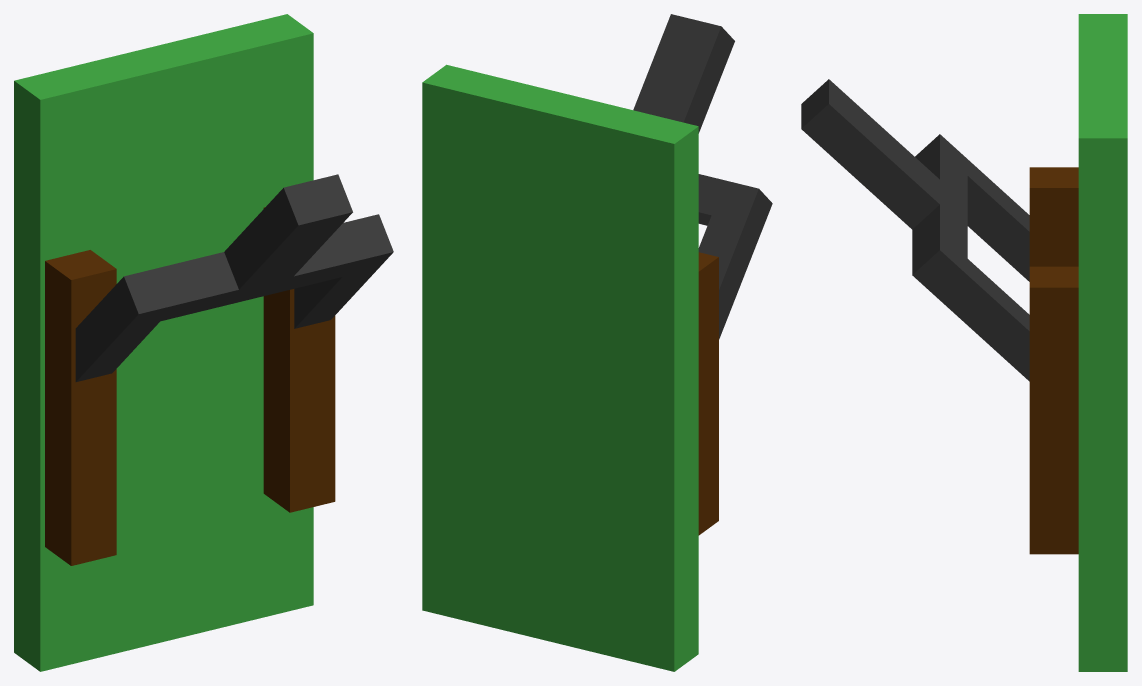
Rendered from INVISIBLE_ZCTRIGGER.OBJ.
3 views of the same model, side by side, from view 1: azimuth 30°, elevation 25°; view 2: azimuth 150°, elevation 25°; view 3: azimuth 270°, elevation 25° (orthographic). The views are drawn at different scales.
Parts seen in each view (by area): view 1: INVISIBLE_ZCTRIGGER; view 2: INVISIBLE_ZCTRIGGER; view 3: INVISIBLE_ZCTRIGGER.
Boxes of the visible parts, x1,y1,x2,y2 form: INVISIBLE_ZCTRIGGER: (14,14,393,671); INVISIBLE_ZCTRIGGER: (422,14,772,671); INVISIBLE_ZCTRIGGER: (801,14,1127,671).
Size of the model in its own units: 0.3 by 0.6 by 0.3328.
